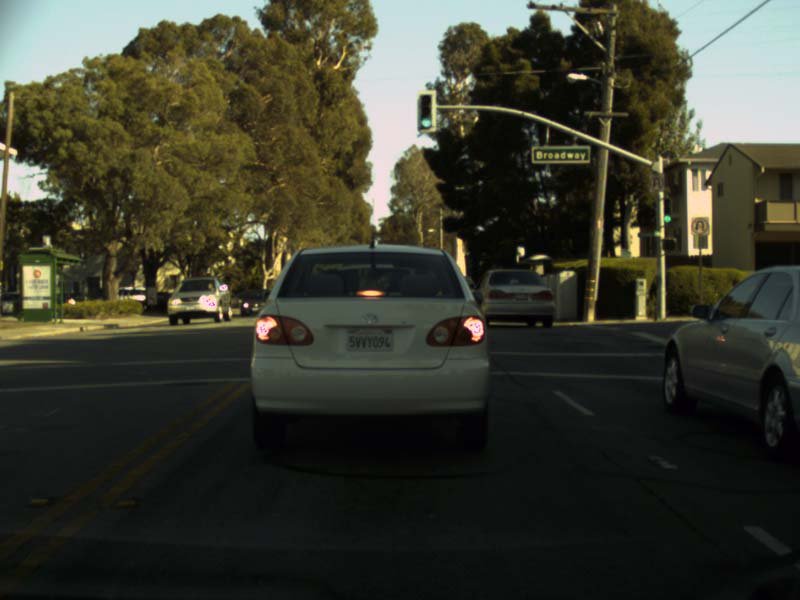Green: (419, 93, 431, 128), (663, 197, 671, 223)
